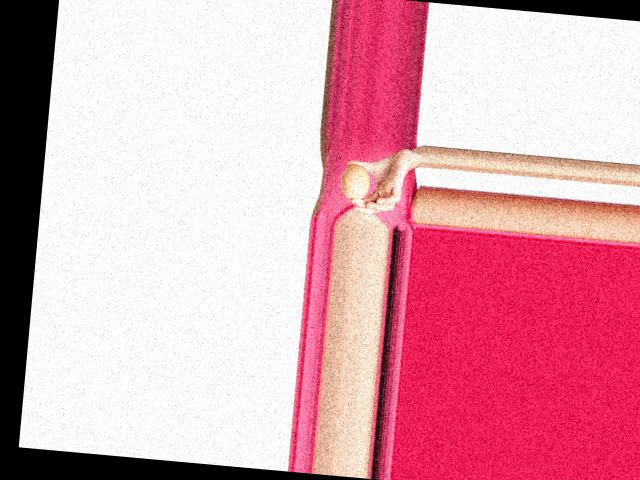egg: (340, 163, 371, 201)
